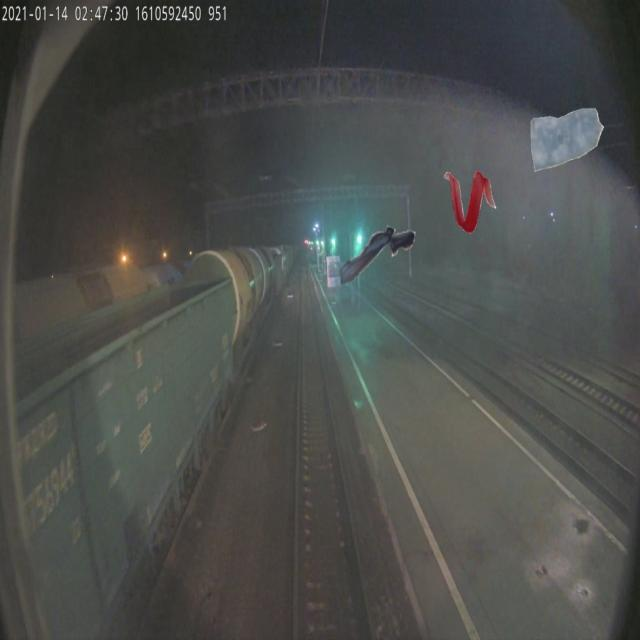floating object: (529, 107, 607, 176), (340, 221, 416, 285), (443, 170, 497, 233)
